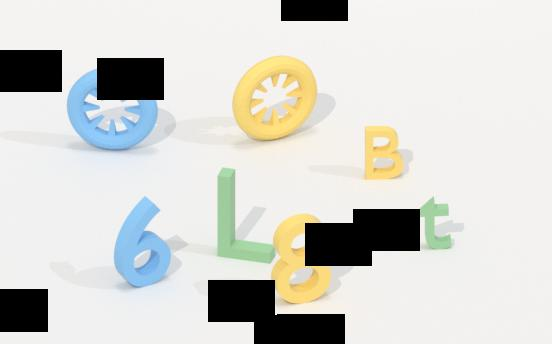6: (111, 195, 175, 292)
8: (266, 207, 338, 309)
b: (360, 121, 408, 184)
l: (213, 164, 277, 264)
t: (412, 192, 457, 256)
tron: (66, 64, 161, 155), (233, 52, 319, 143)
